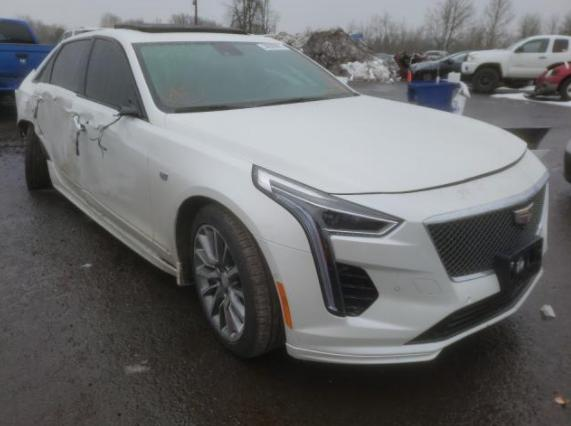Back-door: (34, 37, 93, 185)
Back-wheel: (25, 123, 51, 189)
Back-window: (51, 40, 88, 91)
Fender: (146, 112, 314, 260)
Front-bumper: (252, 147, 550, 365)
Front-door: (69, 36, 154, 240)
Front-wheel: (189, 205, 283, 360)
Front-window: (85, 41, 133, 103)
Grille: (431, 186, 546, 277)
Headlight: (253, 166, 400, 316)
Hood: (164, 94, 529, 195)
Mirror: (103, 93, 141, 119)
Quarter-panel: (15, 76, 53, 160)
Rocker-panel: (47, 160, 180, 283)
Roof: (59, 27, 282, 44)
Windshield: (132, 43, 359, 113)
